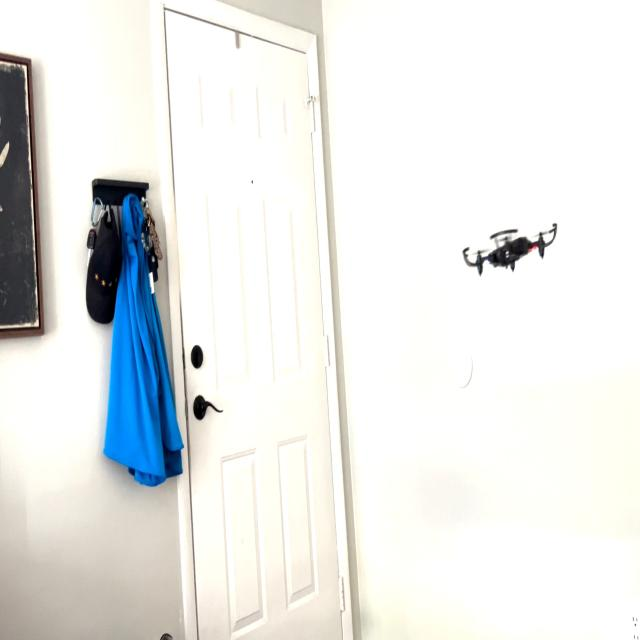drone: (457, 206, 560, 281)
